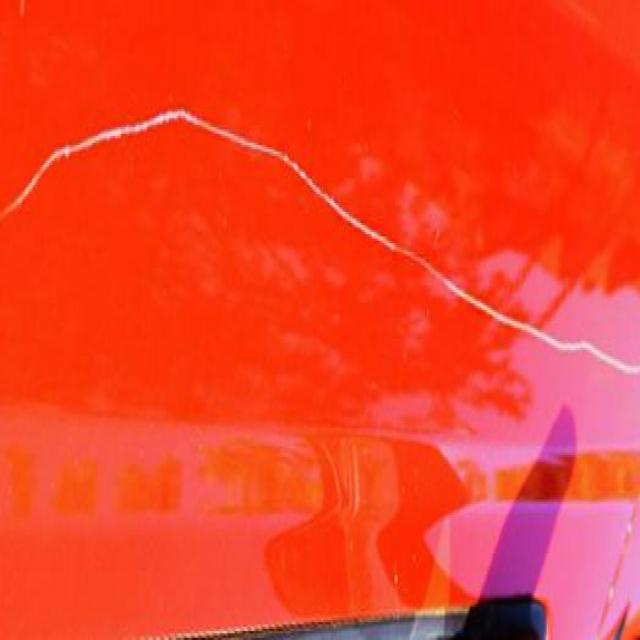scratch: (4, 107, 636, 386)
